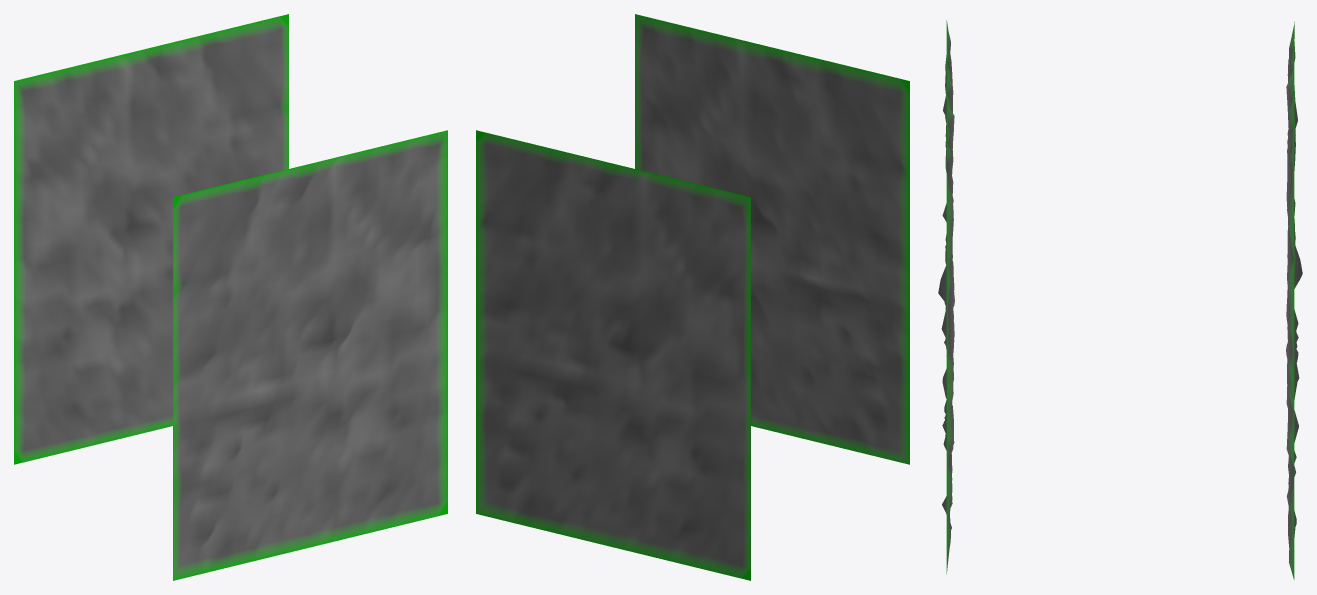
Rendered from SM_LabyrinthTile_Straight.fbx.
3 views of the same model, side by side, from view 1: azimuth 30°, elevation 25°; view 2: azimuth 150°, elevation 25°; view 3: azimuth 270°, elevation 25° (orthographic). The views are drawn at different scales.
Visible parts, largest first — view 1: transform11; view 2: transform11; view 3: transform11.
Part boxes in pixels (bbox=[...]): transform11: bbox=[14, 14, 447, 580]; transform11: bbox=[476, 14, 909, 580]; transform11: bbox=[938, 20, 1302, 579].
Size of the model in its own units: 300 by 400 by 315.
